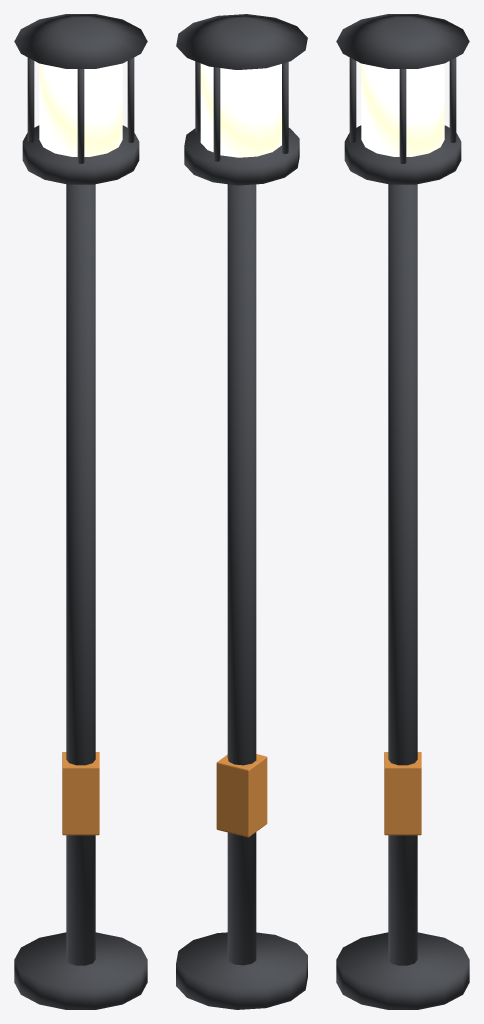
Rendered from lamp.glb.
The picture shows the model from 3 angles, left to right: view 1: azimuth 90°, elevation 25°; view 2: azimuth 150°, elevation 25°; view 3: azimuth 270°, elevation 25°; orthographic projection.
Parts seen in each view (by area): view 1: lamp; view 2: lamp; view 3: lamp.
Part boxes in pixels (x1=…): lamp: x1=14, y1=14, x2=147, y2=1009; lamp: x1=176, y1=14, x2=307, y2=1009; lamp: x1=336, y1=14, x2=469, y2=1009.
Bounding box in the file's own units: 0.312 × 2.53 × 0.32.
